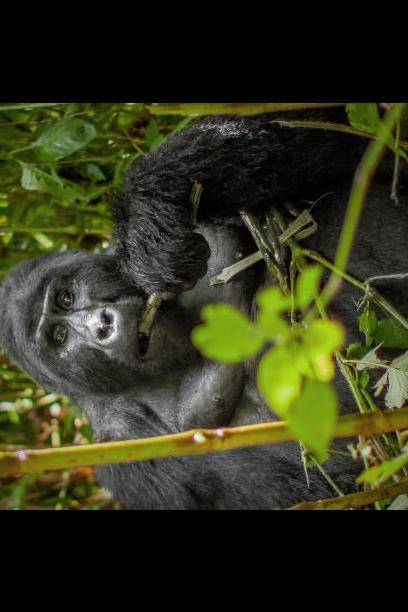goriile_montagne: (0, 102, 408, 505)
